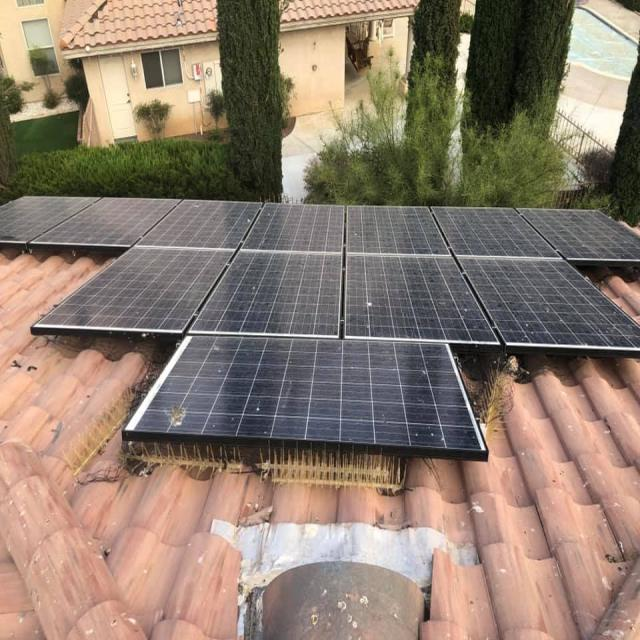dust-solar-panel: (0, 196, 640, 454)
